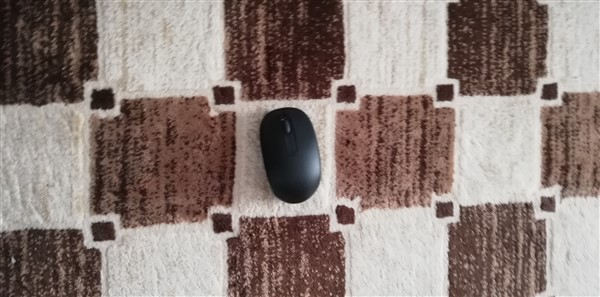mouse: (253, 104, 328, 206)
